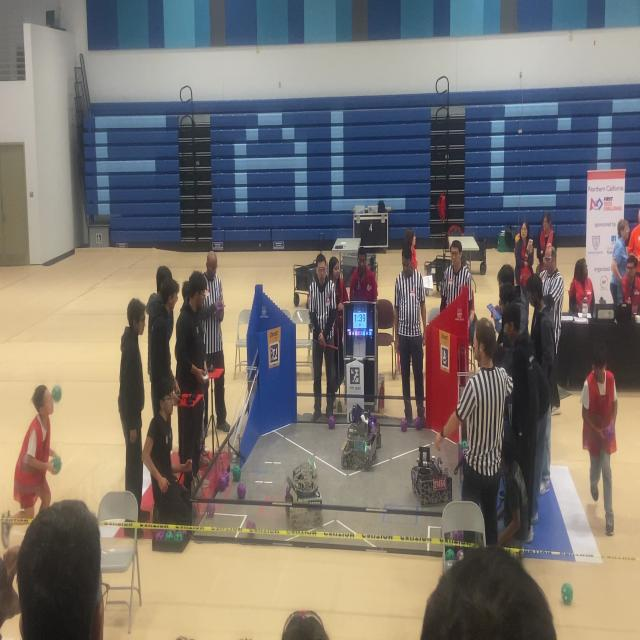artifact_green: (561, 583, 573, 605), (218, 472, 229, 491), (51, 386, 61, 402), (233, 465, 241, 482), (53, 456, 61, 472), (415, 416, 424, 430), (218, 474, 225, 491), (223, 471, 229, 488), (174, 531, 183, 542), (446, 549, 455, 560), (165, 531, 174, 541), (216, 300, 224, 311), (461, 440, 468, 450), (337, 401, 342, 413), (181, 531, 188, 539), (286, 485, 290, 495)
artifact_purple: (604, 424, 615, 444), (452, 530, 464, 542), (237, 483, 245, 499), (245, 519, 256, 530), (173, 531, 183, 543), (206, 504, 215, 517), (218, 474, 225, 490), (155, 530, 165, 541), (415, 417, 423, 430), (328, 415, 335, 429), (223, 471, 229, 487), (456, 549, 464, 561), (446, 549, 454, 561), (370, 424, 377, 437), (165, 531, 174, 541), (401, 419, 407, 432), (370, 414, 375, 426), (286, 485, 290, 495)
